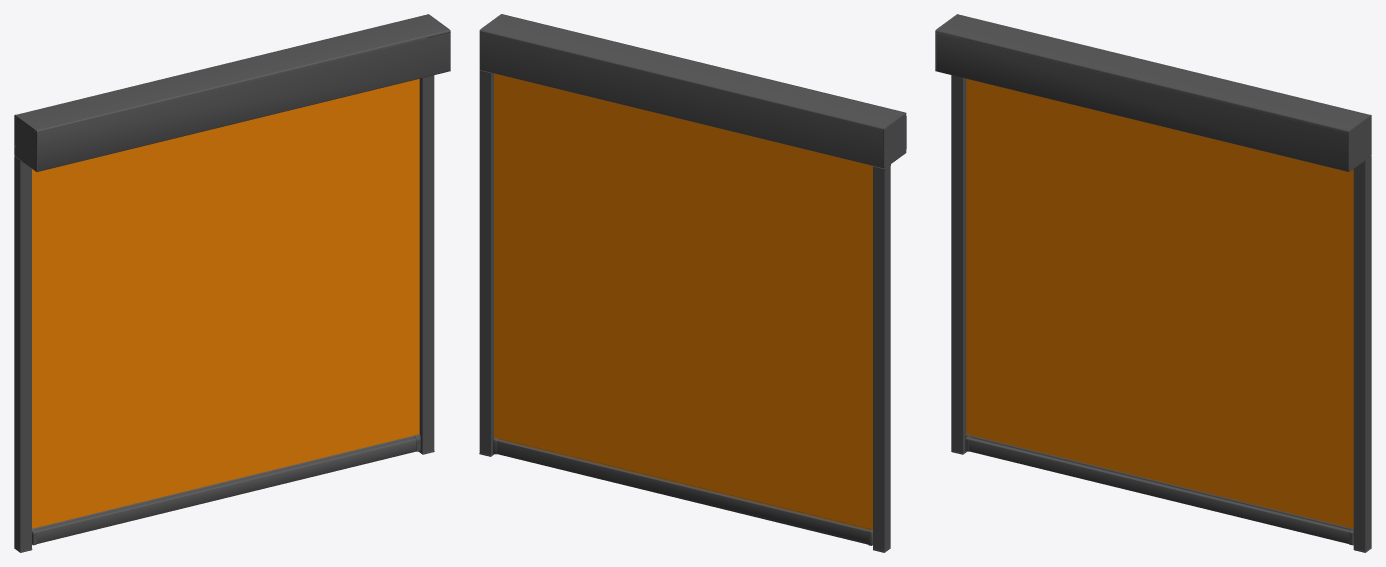
The model's file is VSZ_eckig.glb.
3 renders of one model, left to right at view 1: azimuth 30°, elevation 25°; view 2: azimuth 150°, elevation 25°; view 3: azimuth 330°, elevation 25°, orthographic. The views are drawn at different scales.
Parts seen in each view (by area): view 1: Plane, VS-Z_FME90ų_Contra.003, Plane.001, Cube.001, VS-Z_FME90ų_Contra.004, Cube.002, VS-Z_FME90ų_Contra.010, Cube.018; view 2: Plane, Plane.001, Cube.001, VS-Z_FME90ų_Contra.004, Cube.002, Cube.018; view 3: Plane, VS-Z_FME90ų_Contra.003, Plane.001, Cube.002, VS-Z_FME90ų_Contra.004, Cube.001, VS-Z_FME90ų_Contra.010, Cube.019.
Part boxes in pixels (left/top/right/bottom): Plane: left=32, top=79, right=419, bottom=528; VS-Z_FME90ų_Contra.003: left=22, top=33, right=449, bottom=171; Plane.001: left=16, top=14, right=448, bottom=132; Cube.001: left=14, top=156, right=31, bottom=551; VS-Z_FME90ų_Contra.004: left=34, top=435, right=416, bottom=543; Cube.002: left=419, top=75, right=434, bottom=452; VS-Z_FME90ų_Contra.010: left=37, top=30, right=449, bottom=132; Cube.018: left=14, top=114, right=37, bottom=171; Plane: left=494, top=73, right=872, bottom=529; Plane.001: left=480, top=14, right=904, bottom=168; Cube.001: left=873, top=164, right=890, bottom=551; VS-Z_FME90ų_Contra.004: left=496, top=438, right=870, bottom=544; Cube.002: left=479, top=70, right=493, bottom=455; Cube.018: left=883, top=112, right=906, bottom=168; Plane: left=966, top=79, right=1353, bottom=528; VS-Z_FME90ų_Contra.003: left=936, top=33, right=1363, bottom=171; Plane.001: left=937, top=14, right=1369, bottom=132; Cube.002: left=1353, top=156, right=1371, bottom=551; VS-Z_FME90ų_Contra.004: left=969, top=435, right=1351, bottom=543; Cube.001: left=951, top=75, right=966, bottom=452; VS-Z_FME90ų_Contra.010: left=936, top=30, right=1348, bottom=132; Cube.019: left=1348, top=114, right=1371, bottom=171.
Bounding box in the file's own units: 1.99 × 2 × 0.1898.
3 materials, 1 textured.
